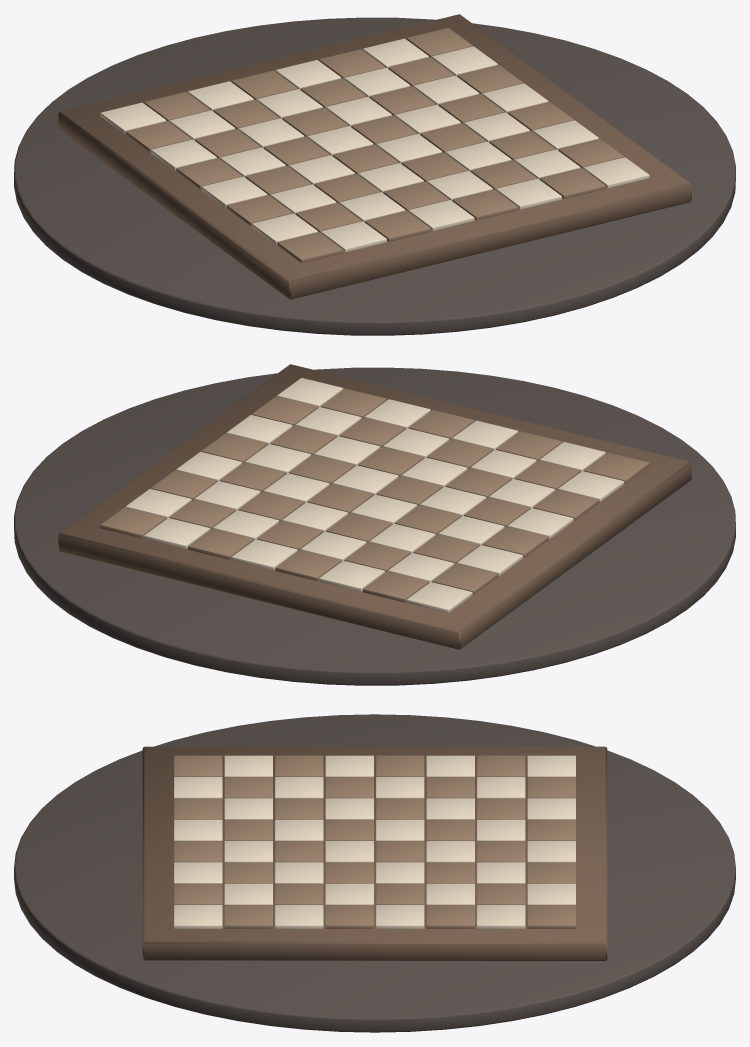
Rendered from board.glb.
The picture shows the model from 3 angles, top to bottom: view 1: azimuth 30°, elevation 25°; view 2: azimuth 150°, elevation 25°; view 3: azimuth 270°, elevation 25°; orthographic projection.
Parts seen in each view (by area): view 1: board_plinth, board_frame, square_a8, square_h8, square_d8, square_e8, square_b8, square_c8, square_g8, square_f8, square_a2, square_a3 (+54 smaller); view 2: board_plinth, board_frame, square_a1, square_h1, square_d1, square_e1, square_b1, square_c1, square_g1, square_f1, square_a2, square_a3 (+54 smaller); view 3: board_plinth, board_frame, square_h1, square_h2, square_h3, square_h4, square_h5, square_h6, square_h7, square_h8, square_b1, square_b3 (+54 smaller).
Part boxes in pixels (bbox=[...]): board_plinth: bbox=[14, 17, 735, 335]; board_frame: bbox=[58, 14, 691, 299]; square_a8: bbox=[277, 232, 343, 263]; square_h8: bbox=[583, 157, 649, 188]; square_d8: bbox=[408, 200, 474, 230]; square_e8: bbox=[452, 189, 518, 220]; square_b8: bbox=[321, 221, 386, 252]; square_c8: bbox=[364, 210, 430, 241]; square_g8: bbox=[539, 168, 605, 198]; square_f8: bbox=[496, 178, 561, 209]; square_a2: bbox=[125, 121, 191, 152]; square_a3: bbox=[151, 139, 216, 170]; board_plinth: bbox=[14, 367, 735, 685]; board_frame: bbox=[58, 364, 691, 649]; square_a1: bbox=[406, 582, 472, 613]; square_h1: bbox=[100, 507, 166, 538]; square_d1: bbox=[275, 550, 341, 580]; square_e1: bbox=[231, 539, 297, 570]; square_b1: bbox=[363, 571, 428, 602]; square_c1: bbox=[319, 560, 385, 591]; square_g1: bbox=[144, 518, 210, 548]; square_f1: bbox=[188, 528, 253, 559]; square_a2: bbox=[432, 563, 497, 594]; square_a3: bbox=[457, 545, 523, 576]; board_plinth: bbox=[14, 714, 735, 1032]; board_frame: bbox=[142, 746, 607, 960]; square_h1: bbox=[527, 905, 575, 928]; square_h2: bbox=[477, 905, 525, 928]; square_h3: bbox=[426, 905, 474, 928]; square_h4: bbox=[376, 905, 424, 928]; square_h5: bbox=[325, 905, 373, 928]; square_h6: bbox=[275, 905, 323, 928]; square_h7: bbox=[224, 905, 272, 928]; square_h8: bbox=[174, 905, 222, 928]; square_b1: bbox=[527, 777, 575, 798]; square_b3: bbox=[426, 777, 474, 798].
Size of the model in its own units: 14.3 by 0.88 by 14.3.
